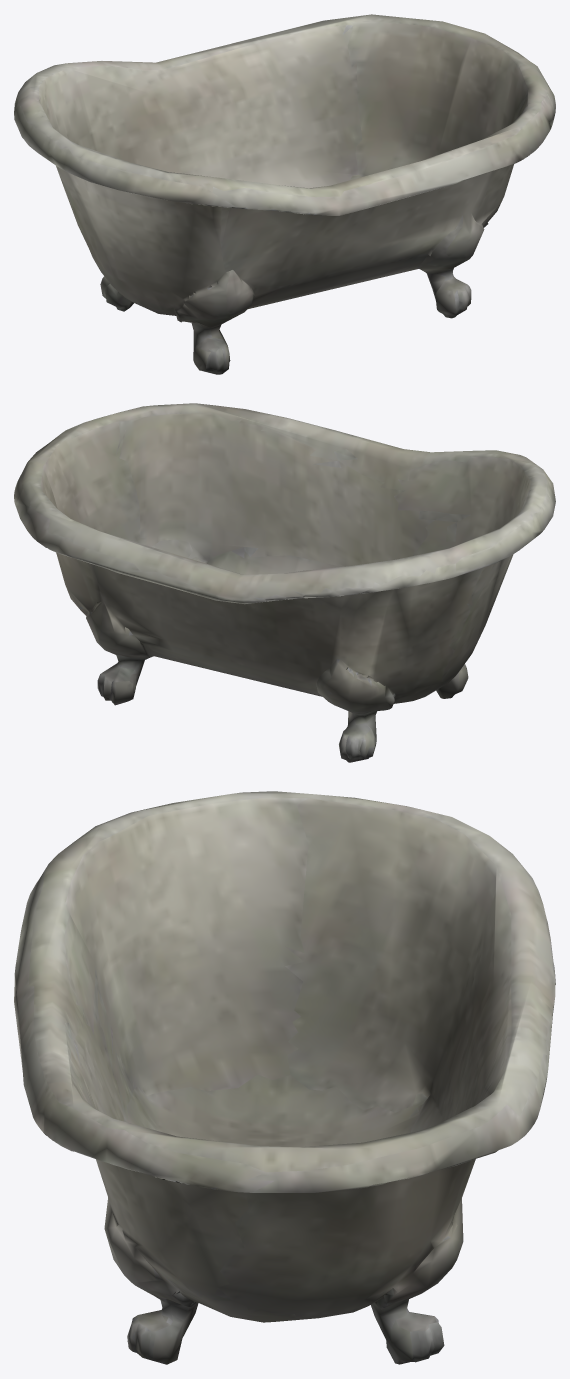
The model's file is worn-white-painted-bathtub-v001.glb.
The picture shows the model from 3 angles, top to bottom: view 1: azimuth 30°, elevation 25°; view 2: azimuth 150°, elevation 25°; view 3: azimuth 270°, elevation 25°; orthographic projection. The views are drawn at different scales.
Parts seen in each view (by area): view 1: worn-white-painted-bathtub; view 2: worn-white-painted-bathtub; view 3: worn-white-painted-bathtub.
Part boxes in pixels (box(x1,y1,x2,y2)): worn-white-painted-bathtub: box(14, 14, 555, 374); worn-white-painted-bathtub: box(14, 403, 555, 762); worn-white-painted-bathtub: box(14, 791, 555, 1364).
Bounding box in the file's own units: 1.36 × 0.6195 × 0.9261.
Materials: 1 (1 with a texture image).
